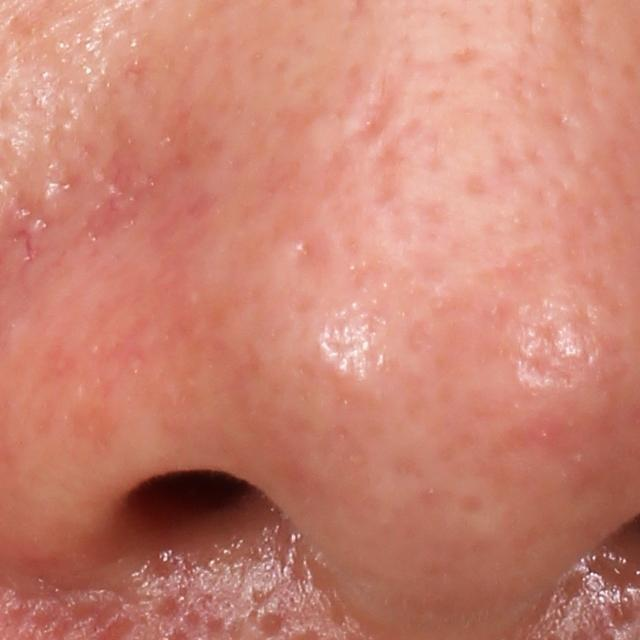atrophic_scar: (80, 101, 231, 244), (345, 64, 406, 153), (368, 120, 426, 213), (255, 609, 286, 640)
